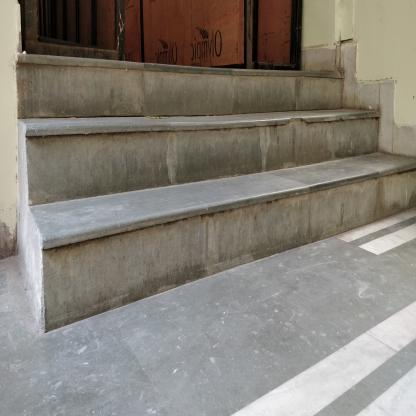stairs: (46, 58, 344, 292)
